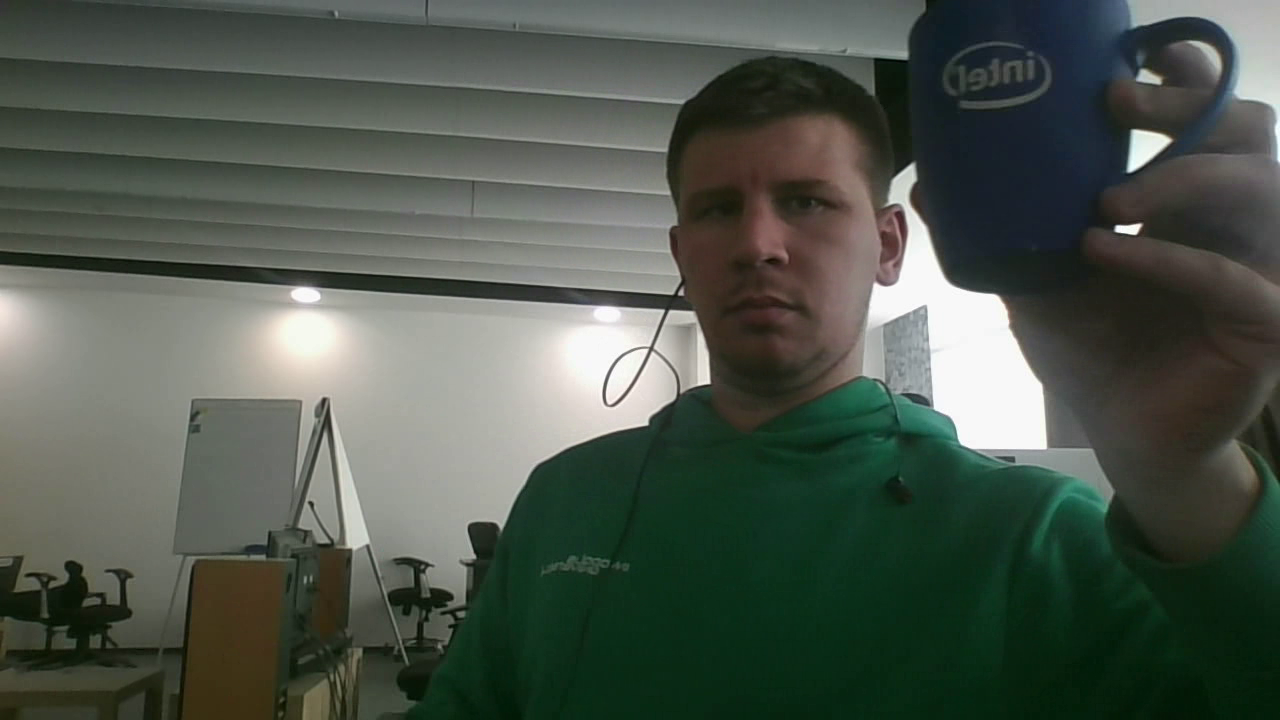cup: (906, 1, 1241, 296)
